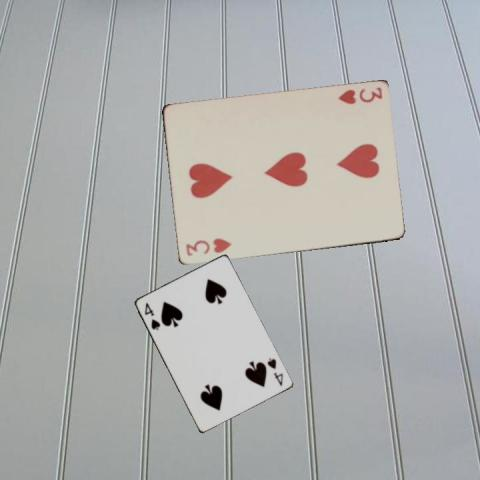3h: (183, 235, 232, 258), (335, 85, 383, 106)
4s: (142, 299, 162, 332), (264, 355, 284, 387)
